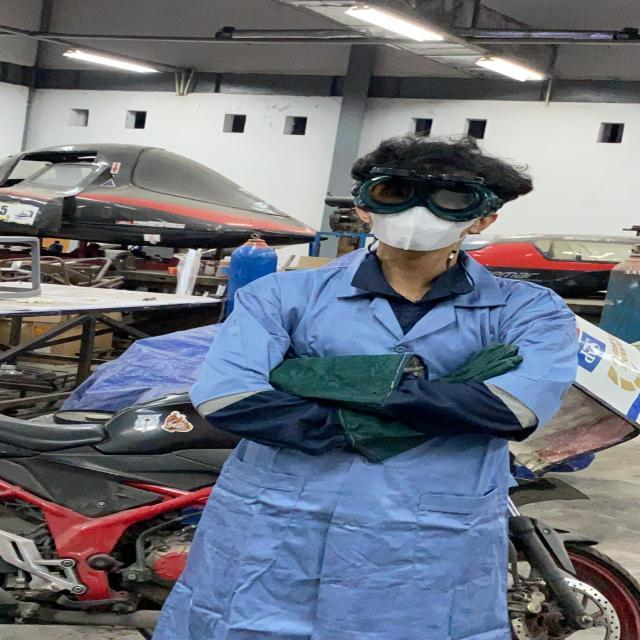glasses: (348, 168, 520, 222)
